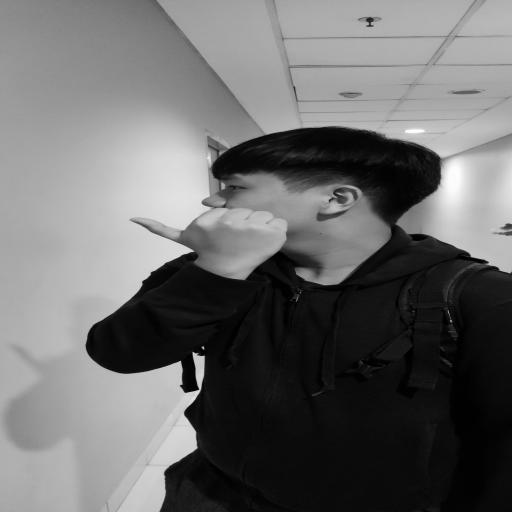back: (117, 200, 328, 288)
